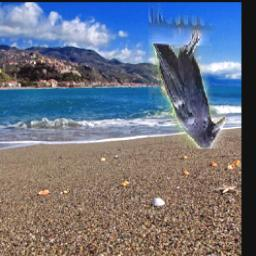Crow: (148, 3, 226, 149)
